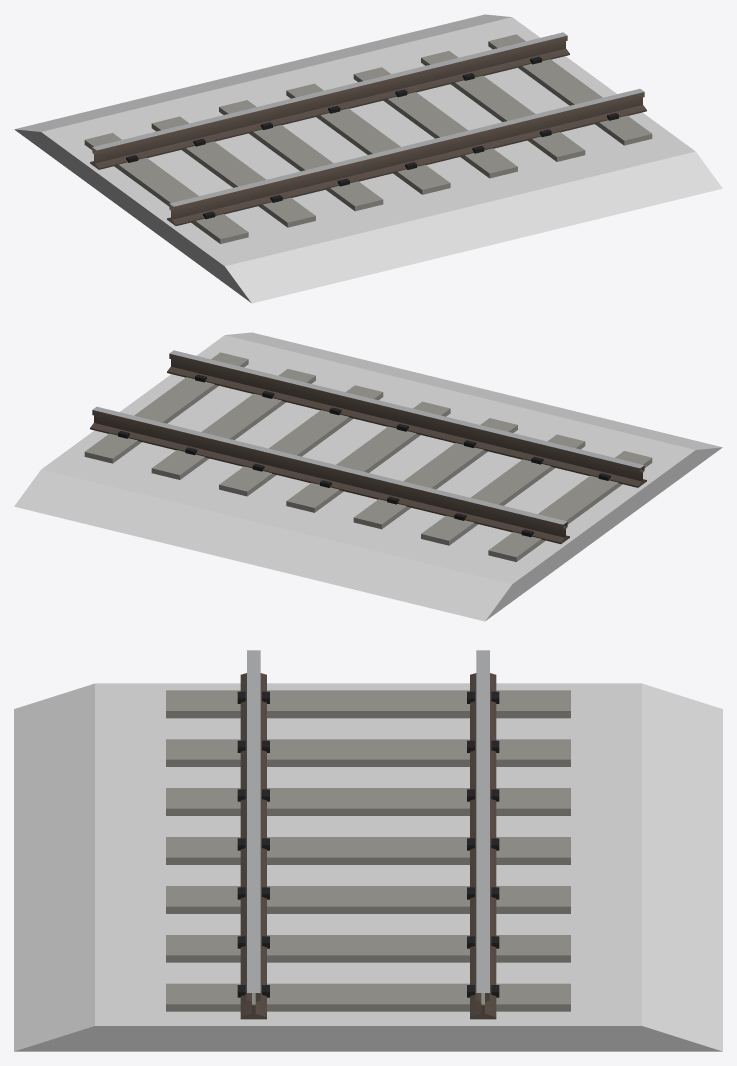
The model's file is TrackKM.fbx.
3 renders of one model, top to bottom at view 1: azimuth 30°, elevation 25°; view 2: azimuth 150°, elevation 25°; view 3: azimuth 270°, elevation 25°, orthographic. The views are drawn at different scales.
Visible parts, largest first — view 1: TrackKM; view 2: TrackKM; view 3: TrackKM.
Boxes of the visible parts, x1=… form: TrackKM: x1=14, y1=14, x2=722, y2=303; TrackKM: x1=14, y1=332, x2=722, y2=621; TrackKM: x1=14, y1=650, x2=722, y2=1051.
Bounding box in the file's own units: 4 × 0.32 × 3.5.
